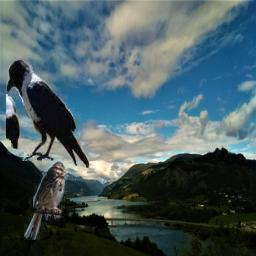Crow: (6, 60, 89, 171)
Sparrow: (24, 159, 68, 240)
